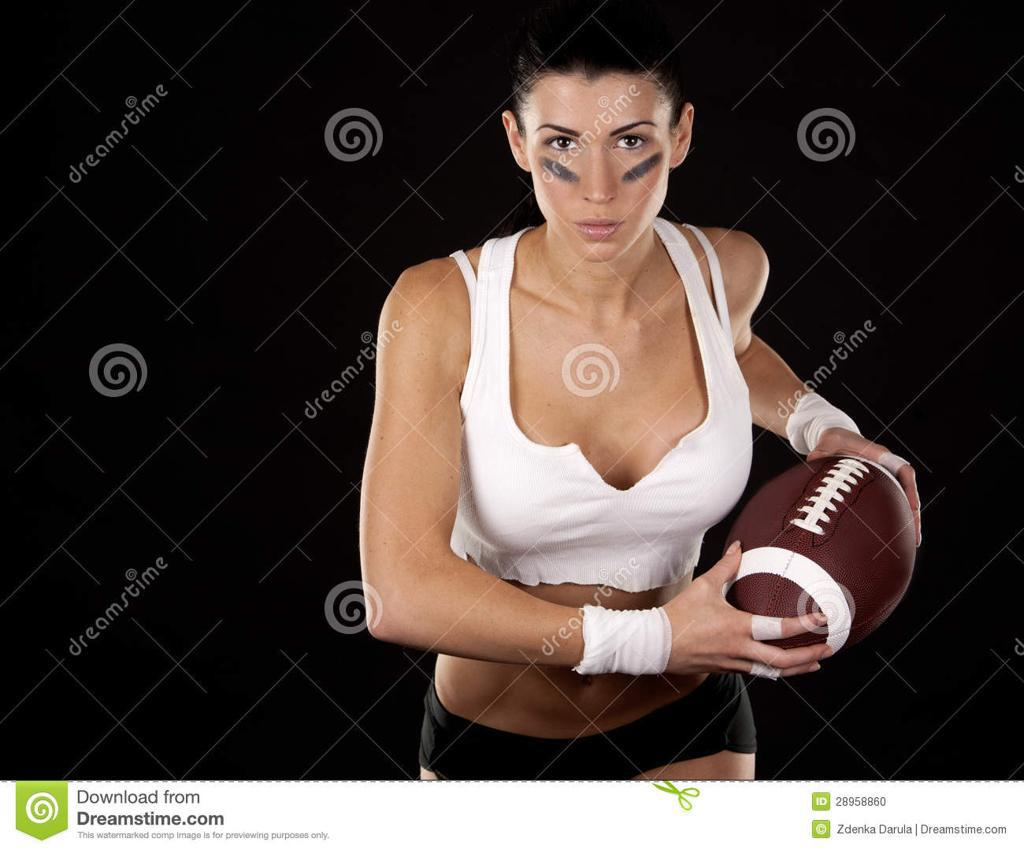face: (525, 79, 673, 263)
